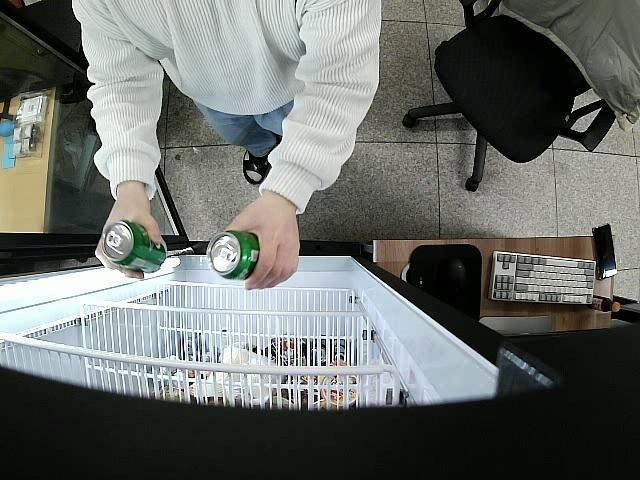12_chilsungCider: (100, 220, 168, 274), (208, 232, 259, 281)
